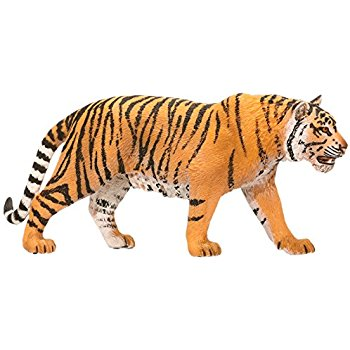Tiger: (9, 70, 350, 289)
